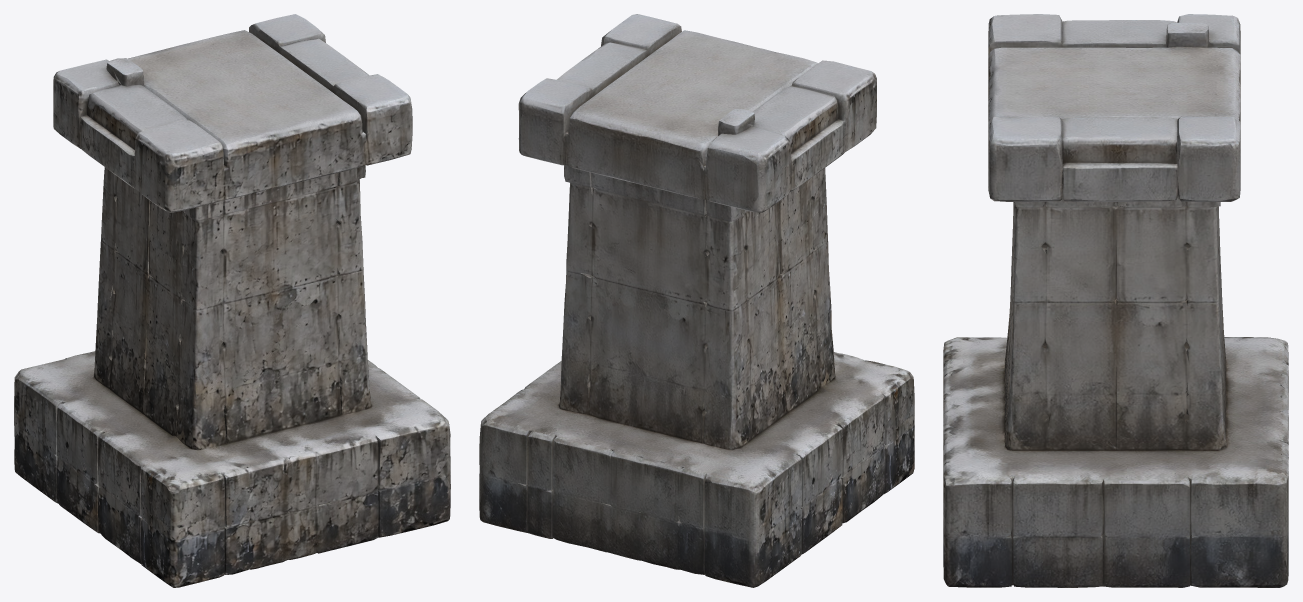
File: MAP-E-PIER-01-lod0.glb
3 renders of one model, left to right at view 1: azimuth 30°, elevation 25°; view 2: azimuth 150°, elevation 25°; view 3: azimuth 270°, elevation 25°, orthographic. The views are drawn at different scales.
Visible parts, largest first — view 1: Mesh; view 2: Mesh; view 3: Mesh.
Boxes of the visible parts, bbox=[...] form: Mesh: bbox=[14, 14, 450, 587]; Mesh: bbox=[479, 14, 914, 587]; Mesh: bbox=[943, 14, 1288, 587].
Bounding box in the file's own units: 1.31 × 1.89 × 1.31.
1 material, 1 textured.
